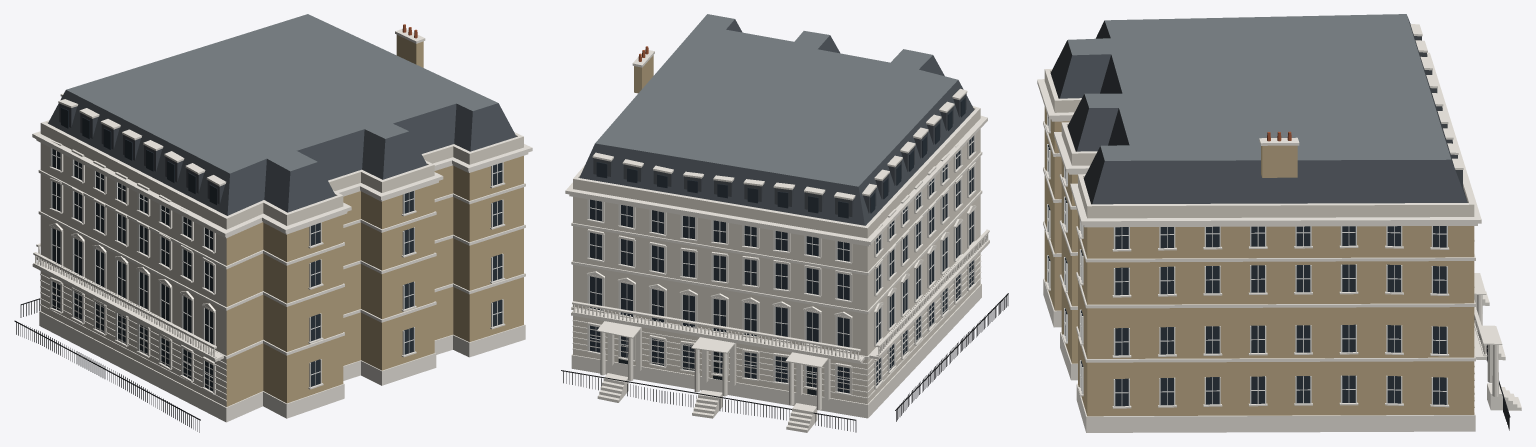
The model's file is more_house.glb.
The picture shows the model from 3 angles, left to right: view 1: azimuth 30°, elevation 25°; view 2: azimuth 150°, elevation 25°; view 3: azimuth 270°, elevation 25°; orthographic projection. The views are drawn at different scales.
Size of the model in its own units: 31.55 by 23.03 by 32.41.
